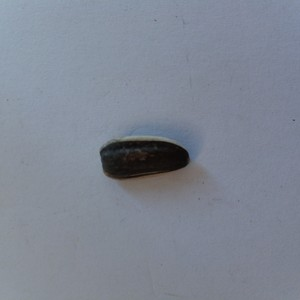girasol: (98, 134, 194, 184)
